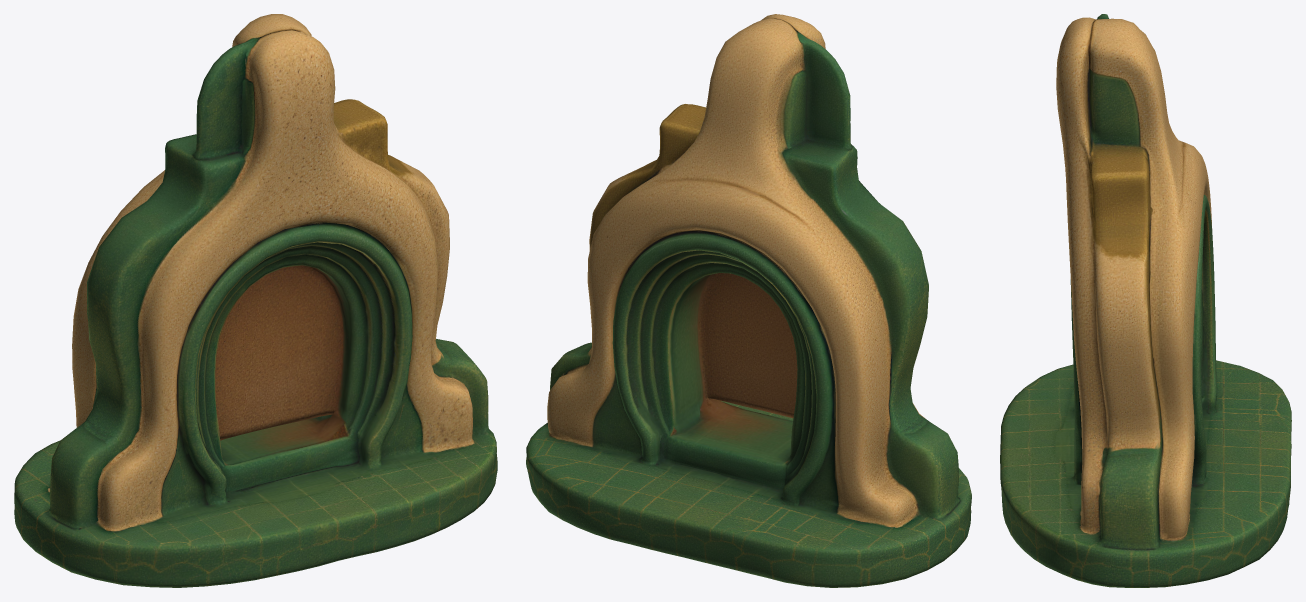
Rendered from tripo_convert_a83c8ced-911e-46ed-9ba6-d732a942b393.fbx.
3 renders of one model, left to right at view 1: azimuth 30°, elevation 25°; view 2: azimuth 150°, elevation 25°; view 3: azimuth 270°, elevation 25°, orthographic. The views are drawn at different scales.
Parts seen in each view (by area): view 1: tripo_node_a83c8ced; view 2: tripo_node_a83c8ced; view 3: tripo_node_a83c8ced.
Part boxes in pixels (left/top/right/bottom): tripo_node_a83c8ced: left=14, top=14, right=497, bottom=587; tripo_node_a83c8ced: left=526, top=14, right=971, bottom=587; tripo_node_a83c8ced: left=1000, top=14, right=1291, bottom=587.
Size of the model in its own units: 0.8862 by 0.979 by 0.5525.
1 material, 1 textured.
